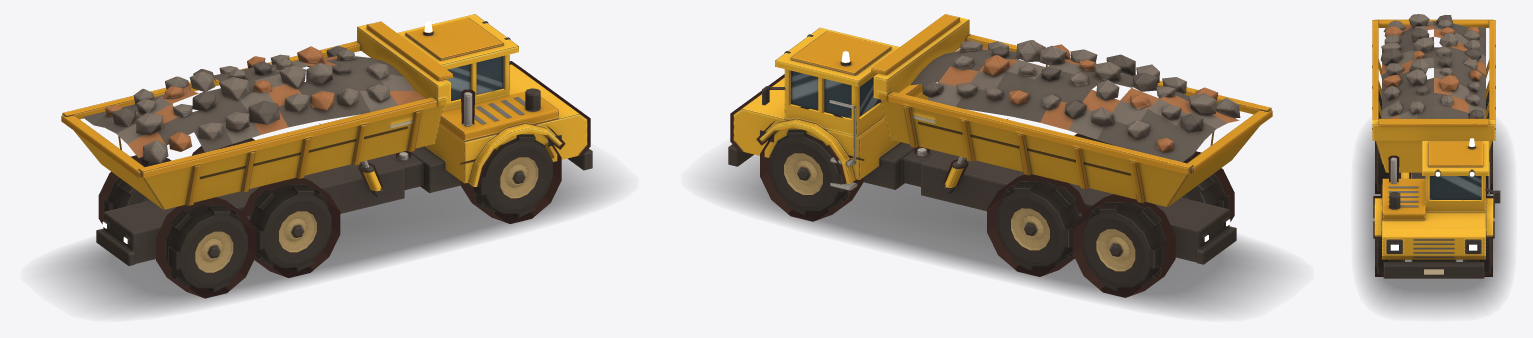
The model's file is truck.glb.
3 renders of one model, left to right at view 1: azimuth 30°, elevation 25°; view 2: azimuth 150°, elevation 25°; view 3: azimuth 270°, elevation 25°, orthographic. The views are drawn at different scales.
Parts seen in each view (by area): view 1: truck_body, SHADOW, WHEEL_RR, WHEEL_MR, WHEEL_FR, WHEEL_RL; view 2: truck_body, SHADOW, WHEEL_RL, WHEEL_ML, WHEEL_FL, WHEEL_RR; view 3: truck_body, SHADOW, WHEEL_MR, WHEEL_FL, WHEEL_FR, LAMPS, WHEEL_ML.
Part boxes in pixels (x1,y1,x2,y2): truck_body: (61, 14, 592, 265); SHADOW: (45, 159, 614, 314); WHEEL_RR: (156, 197, 256, 298); WHEEL_MR: (242, 177, 340, 277); WHEEL_FR: (461, 134, 561, 223); WHEEL_RL: (98, 155, 170, 224); truck_body: (728, 14, 1272, 264); SHADOW: (706, 155, 1288, 313); WHEEL_RL: (1072, 194, 1175, 297); WHEEL_ML: (987, 174, 1087, 276); WHEEL_FL: (760, 129, 863, 221); WHEEL_RR: (1181, 151, 1234, 221); truck_body: (1372, 14, 1500, 278); SHADOW: (1357, 129, 1510, 312); WHEEL_MR: (1375, 141, 1399, 193); WHEEL_FL: (1463, 238, 1492, 276); WHEEL_FR: (1375, 238, 1404, 276); LAMPS: (1390, 138, 1477, 250); WHEEL_ML: (1486, 141, 1492, 193).
Size of the model in its own units: 19.47 by 5.8 by 6.36.
Materials: 3 (1 with a texture image).
